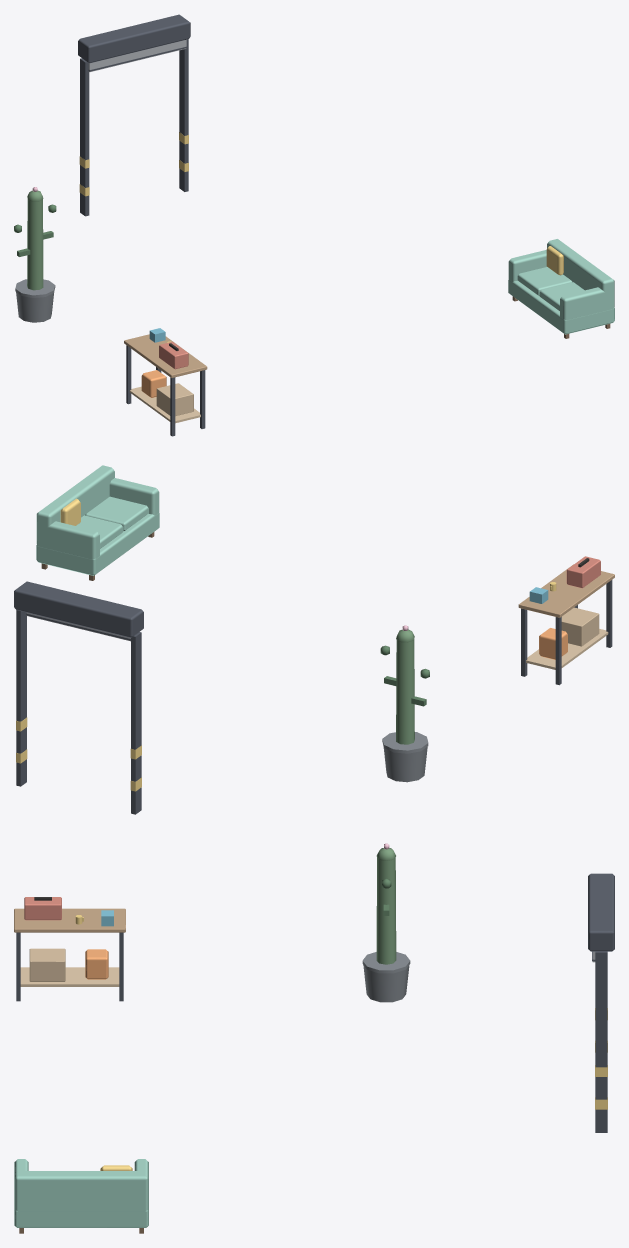
The model's file is einrichtung_garage_buehne.glb.
3 renders of one model, top to bottom at view 1: azimuth 30°, elevation 25°; view 2: azimuth 150°, elevation 25°; view 3: azimuth 270°, elevation 25°, orthographic. The views are drawn at different scales.
Parts seen in each view (by area): view 1: einrichtung_garage_buehne; view 2: einrichtung_garage_buehne; view 3: einrichtung_garage_buehne.
Part boxes in pixels (bbox=[...]): einrichtung_garage_buehne: bbox=[14, 14, 614, 436]; einrichtung_garage_buehne: bbox=[14, 465, 614, 814]; einrichtung_garage_buehne: bbox=[14, 843, 614, 1233].
Bounding box in the file's own units: 6.72 × 2.48 × 6.71.
